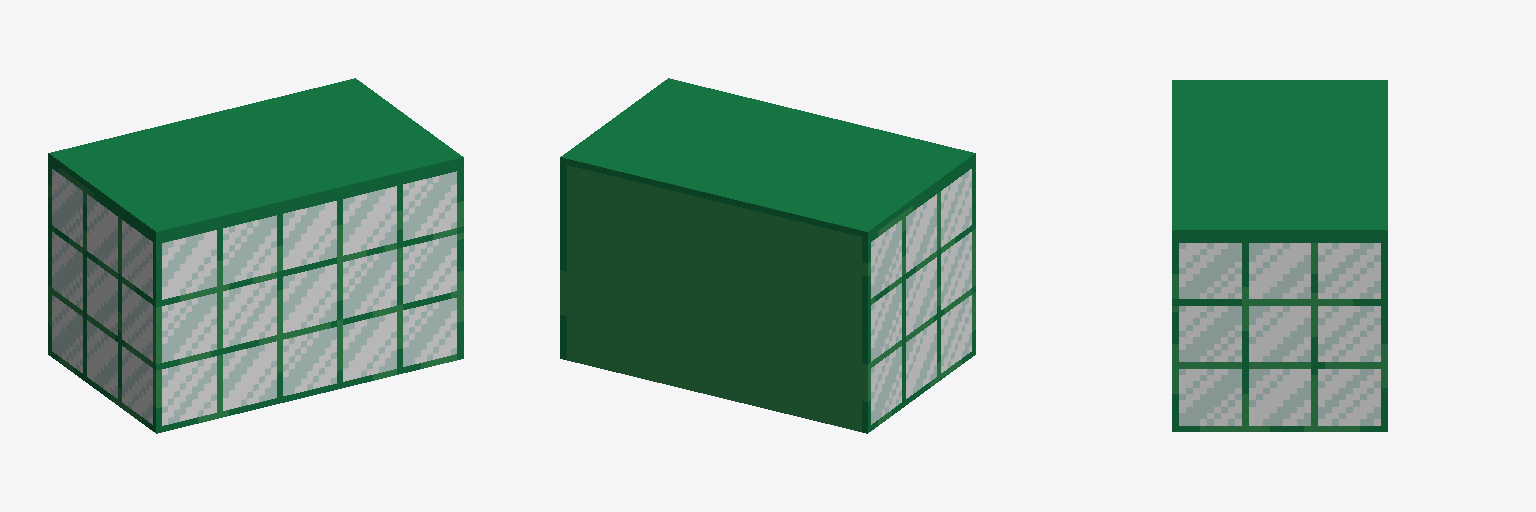
3 renders of one model, left to right at view 1: azimuth 30°, elevation 25°; view 2: azimuth 150°, elevation 25°; view 3: azimuth 270°, elevation 25°, orthographic.
Visible parts, largest first — view 1: object 1; view 2: object 1; view 3: object 1.
Boxes of the visible parts, <box> form: object 1: <box>48,78,463,433</box>; object 1: <box>560,78,975,433</box>; object 1: <box>1172,80,1387,431</box>.
Bounding box in the file's own units: 5.1 × 3.2 × 3.1.
Materials: 1 (1 with a texture image).